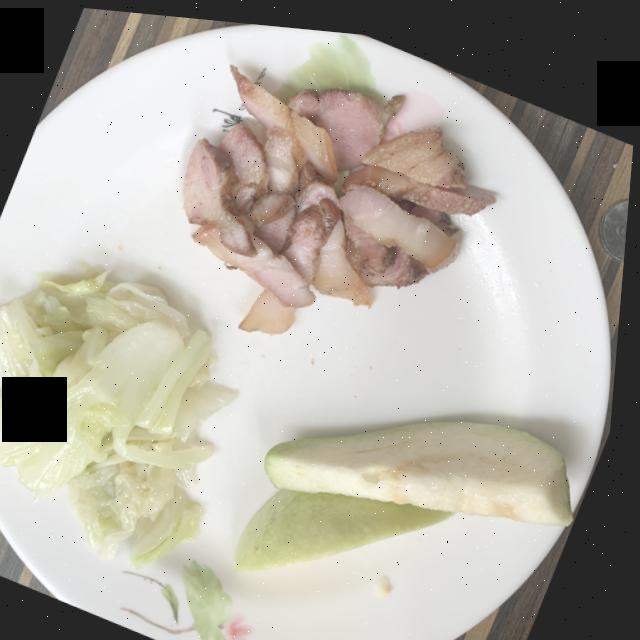cabbage: (0, 266, 243, 563)
coin: (602, 186, 631, 247)
grilled pork: (186, 60, 498, 327)
guava -sliced-: (244, 410, 580, 564)
